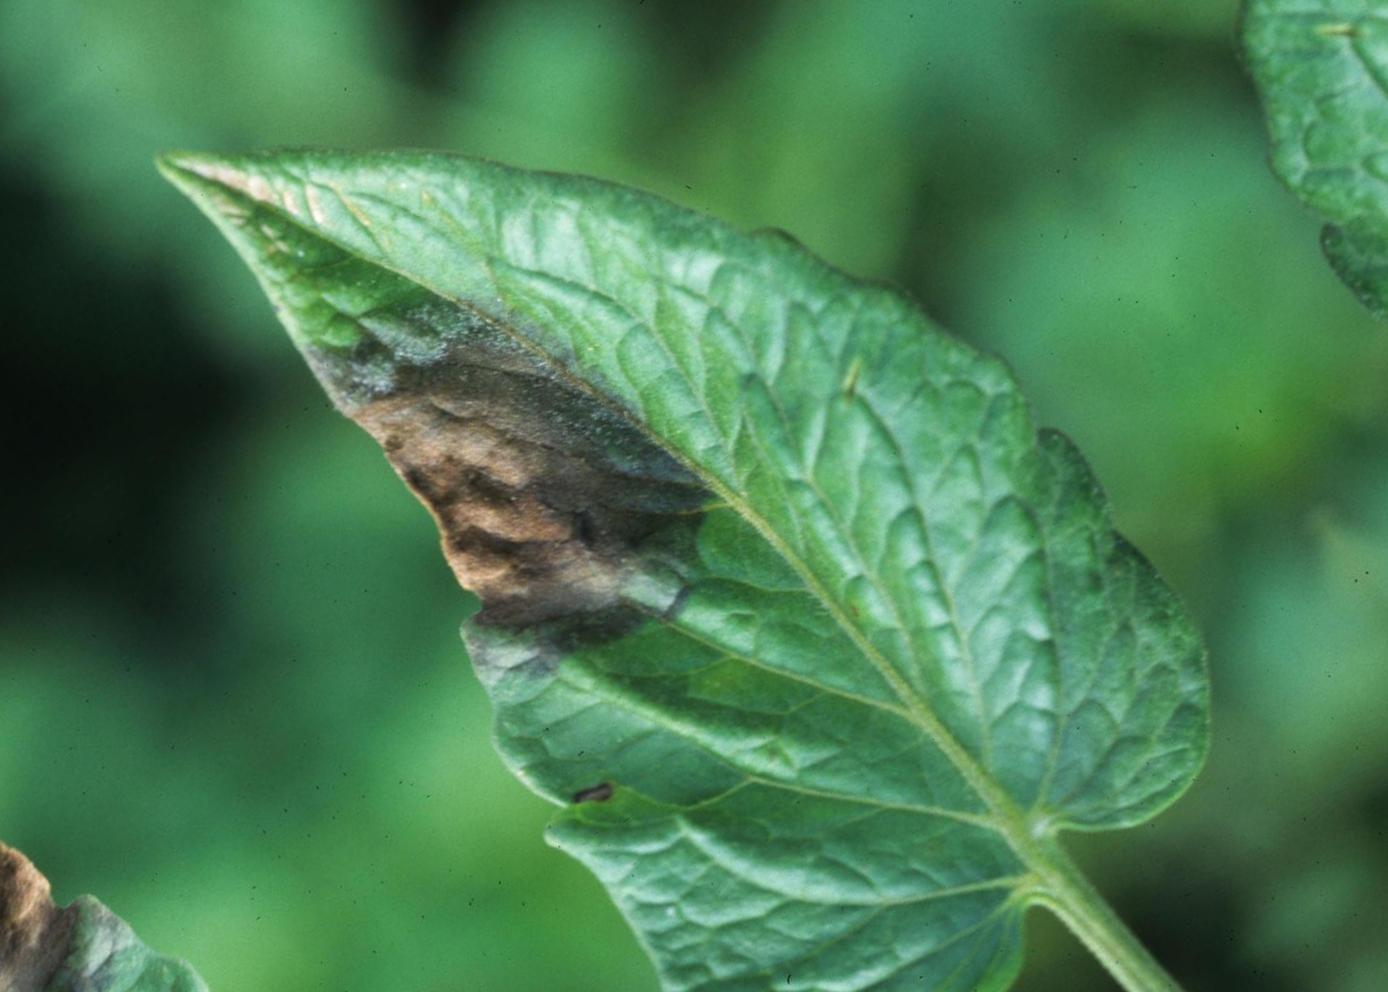Tomato leaf late blight: (36, 0, 1343, 992)
